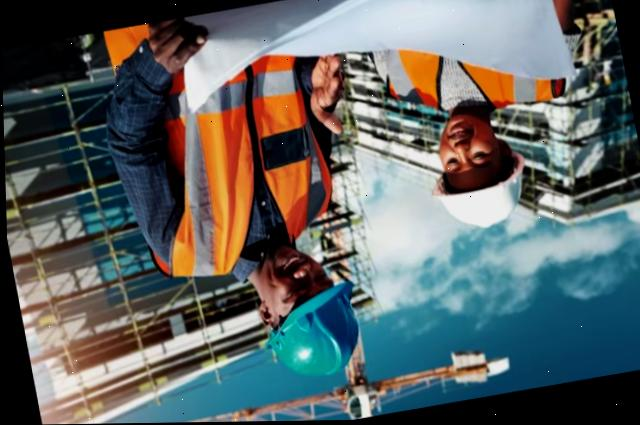helmet: (253, 280, 373, 393), (415, 165, 539, 246)
vest: (99, 0, 344, 295), (375, 0, 570, 120)
